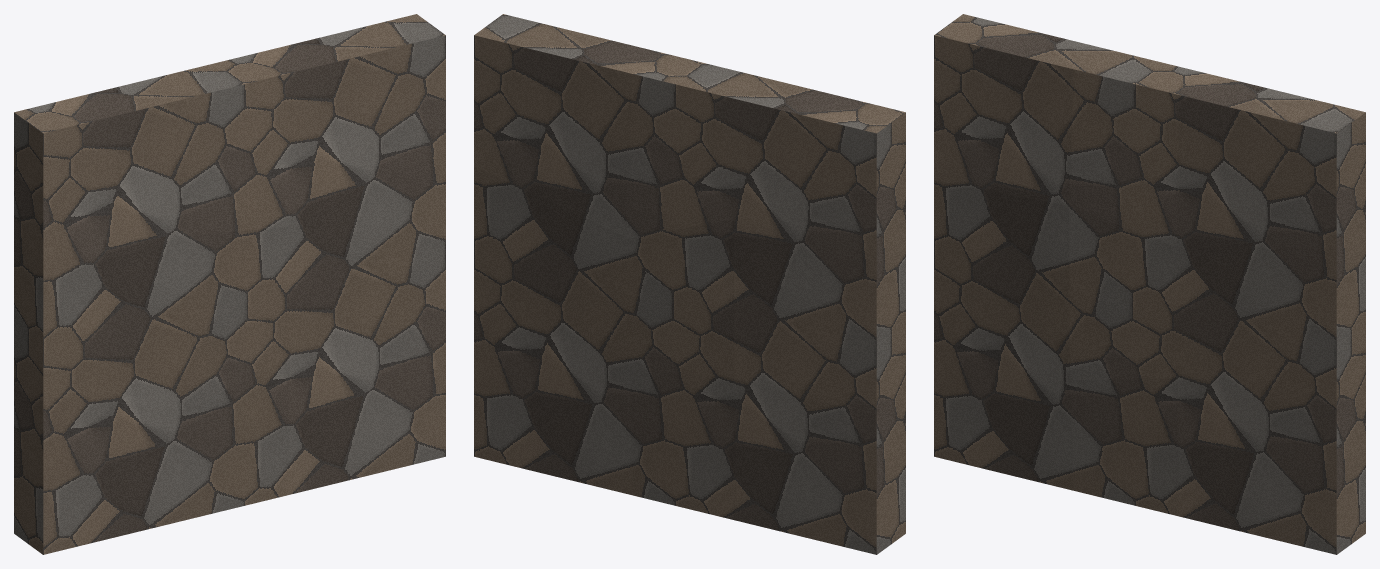
Rendered from mine_wall.glb.
3 views of the same model, side by side, from view 1: azimuth 30°, elevation 25°; view 2: azimuth 150°, elevation 25°; view 3: azimuth 330°, elevation 25° (orthographic).
Parts seen in each view (by area): view 1: mine_wall; view 2: mine_wall; view 3: mine_wall.
Boxes of the visible parts, x1,y1,x2,y2 form: mine_wall: [14, 14, 445, 554]; mine_wall: [474, 14, 905, 554]; mine_wall: [934, 14, 1365, 554].
Size of the model in its own units: 4 by 4 by 0.6238.
1 material, 1 textured.
